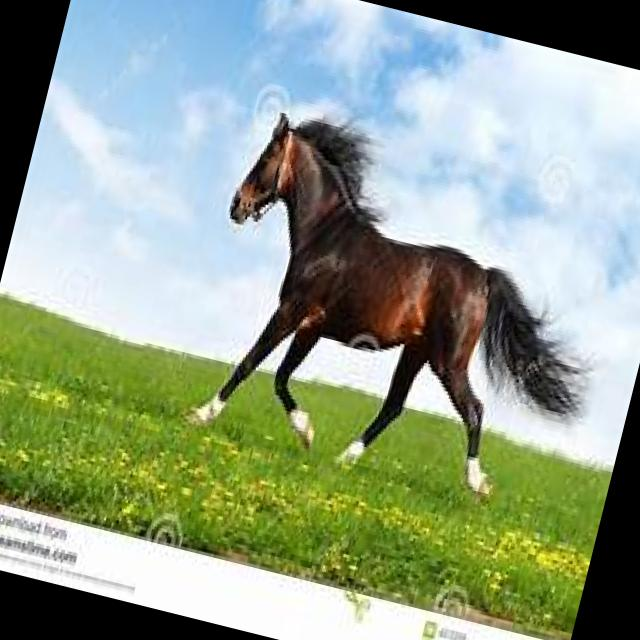horse: (176, 106, 626, 516)
